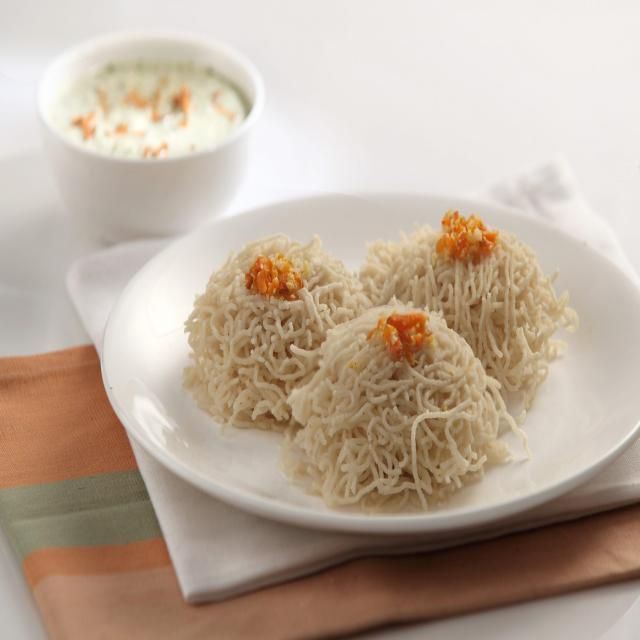IDIYAPPAM: (292, 311, 514, 500), (353, 217, 561, 395), (194, 236, 381, 414)
